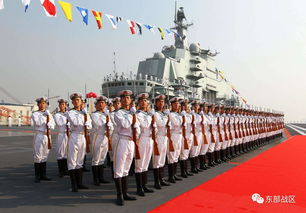10+: (27, 87, 292, 209)
